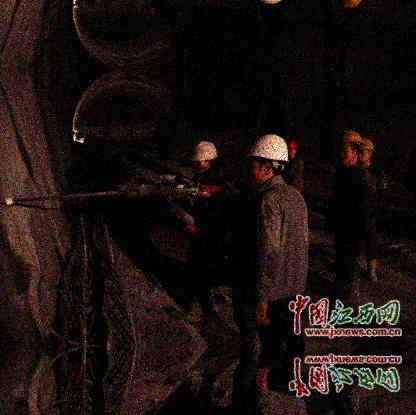helmet: (244, 134, 290, 186), (188, 140, 219, 172), (333, 130, 363, 163), (362, 137, 374, 163), (286, 136, 300, 158)
